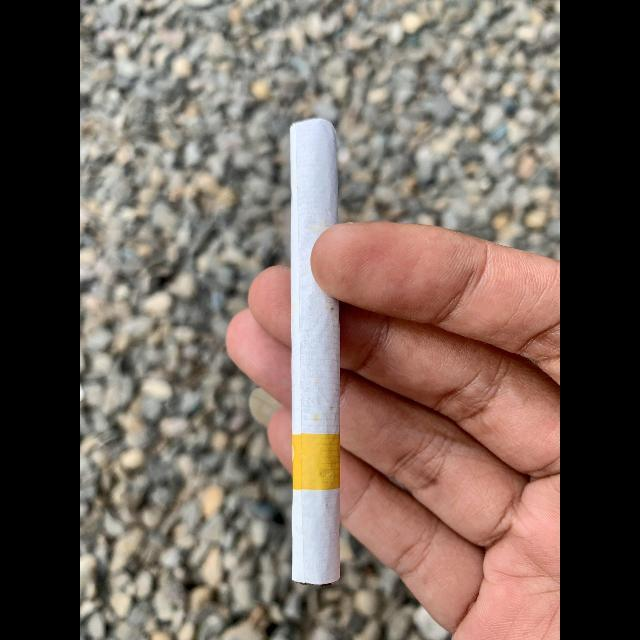rokok: (283, 116, 347, 588)
